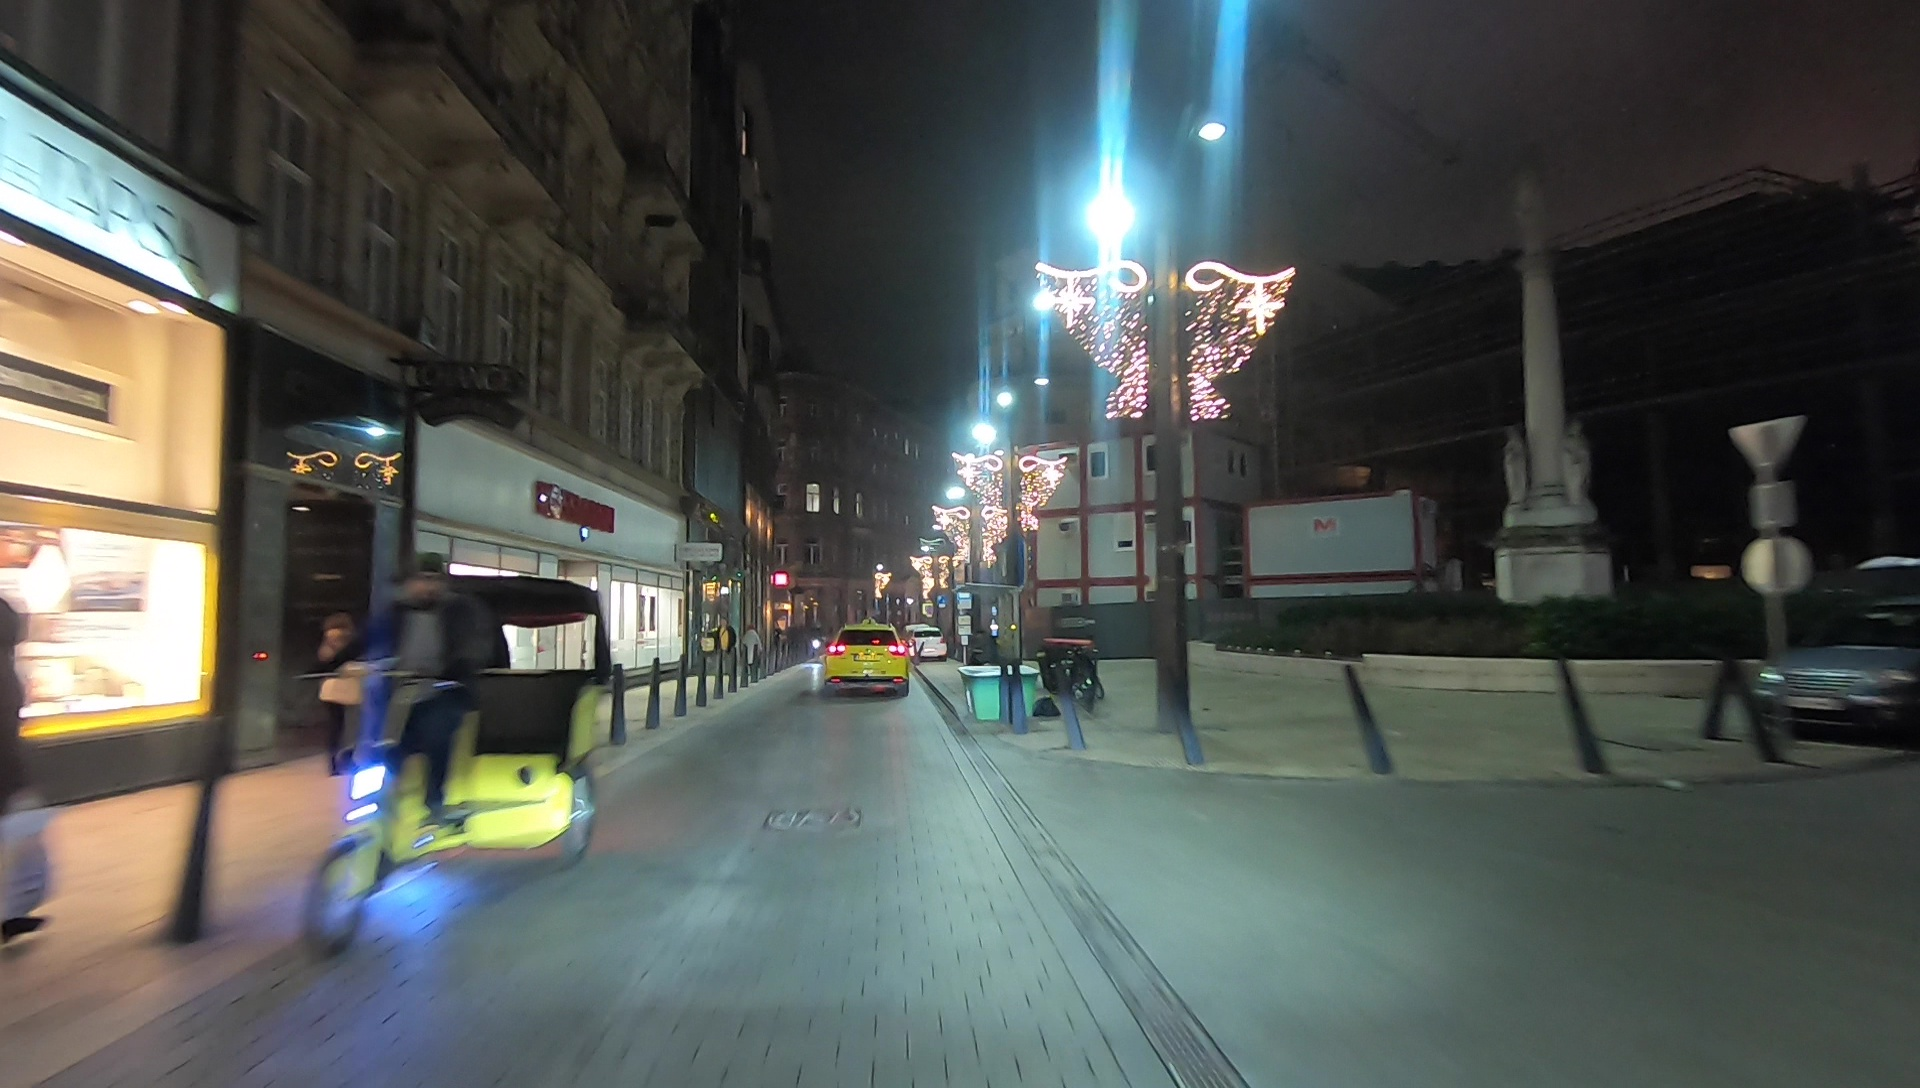person: (319, 607, 360, 789), (707, 620, 736, 690), (740, 626, 763, 683)
